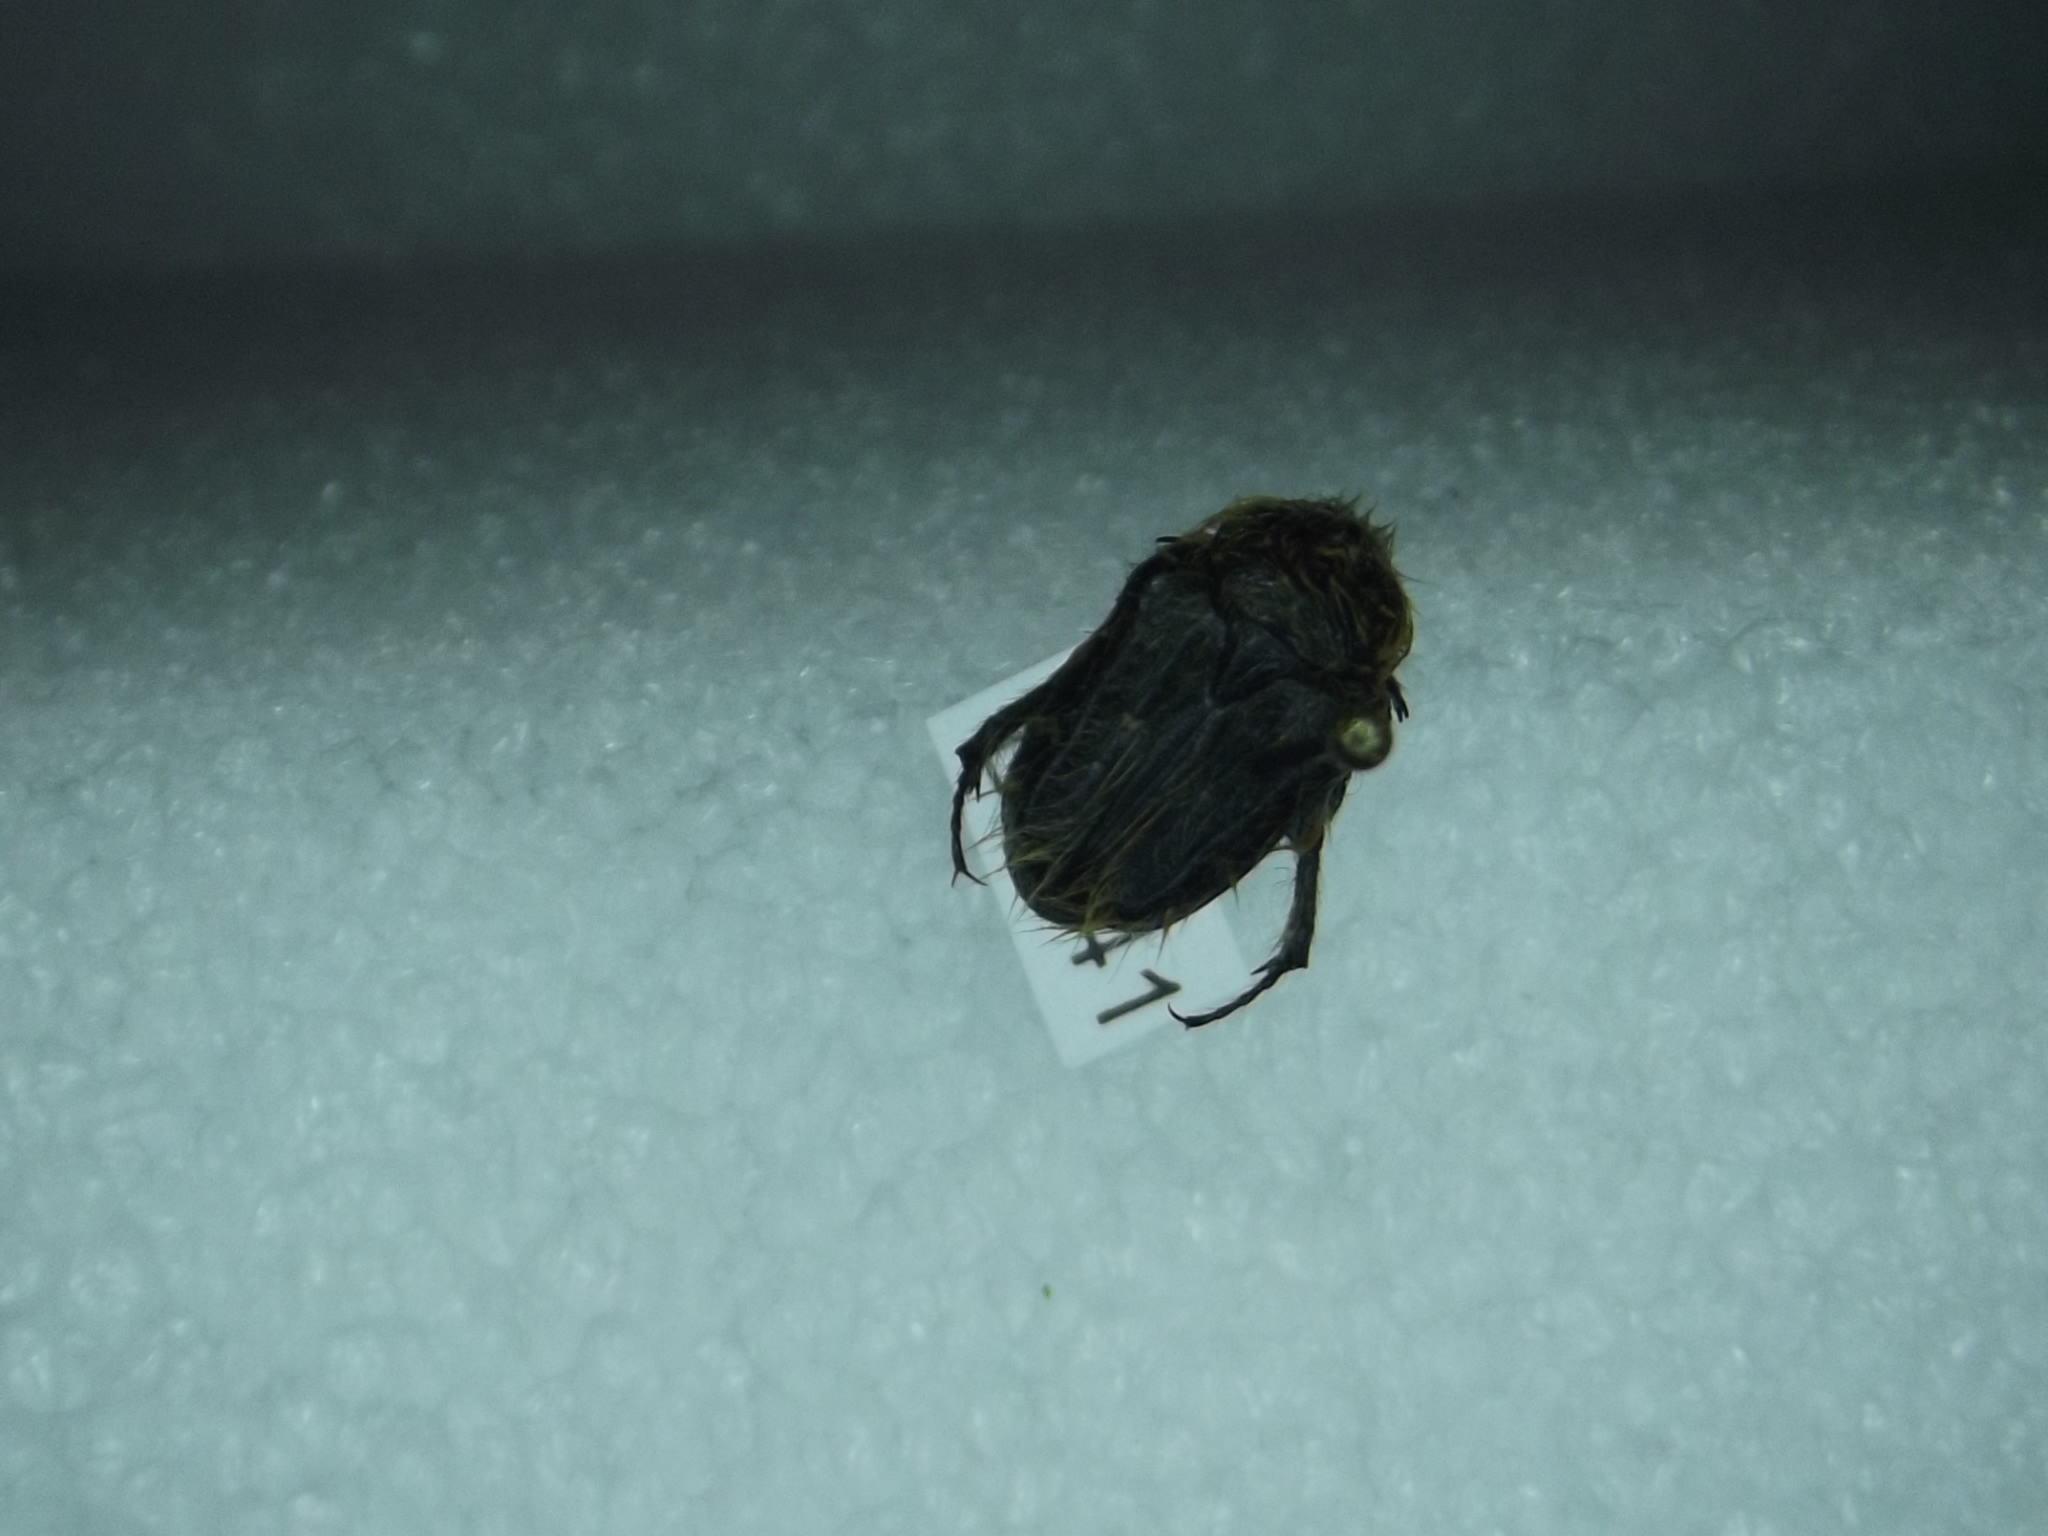Tropinota_senicula: (922, 481, 1435, 1037)
